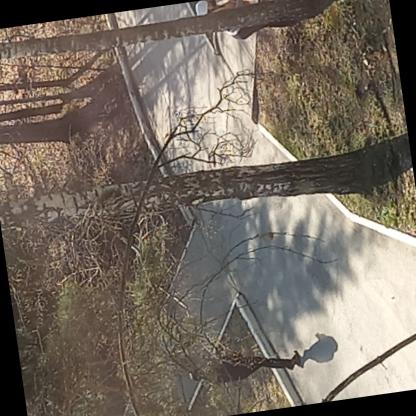Human Body: (180, 328, 306, 392), (189, 0, 304, 47)
